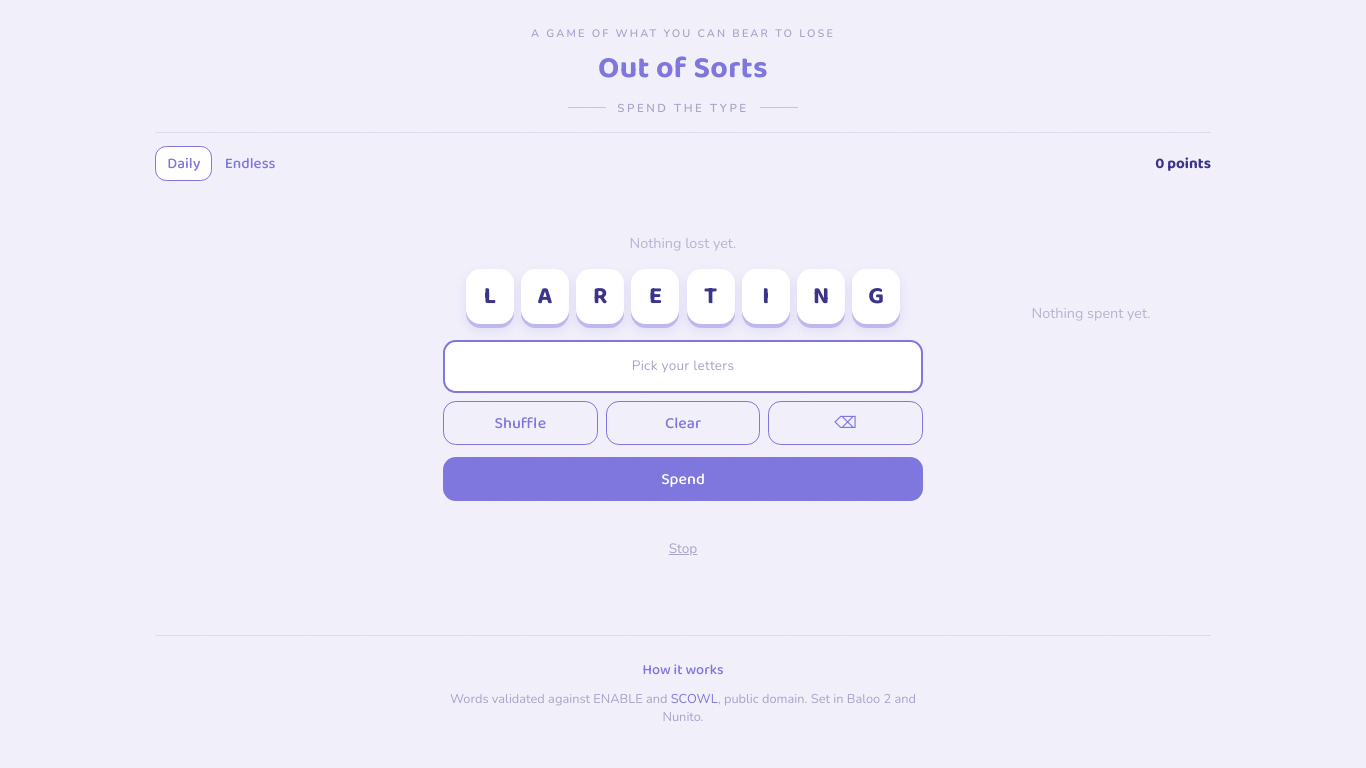
you open the game and type › mixes tapped tiles and typed letters, keeping the lights right
Expected: the element that starts with "Nothing lost yet." is shown, [443,233,1150,571]
Click the button with test id "pool-tile" showing "T". click: click(711, 297)
box: [687,269,735,324]
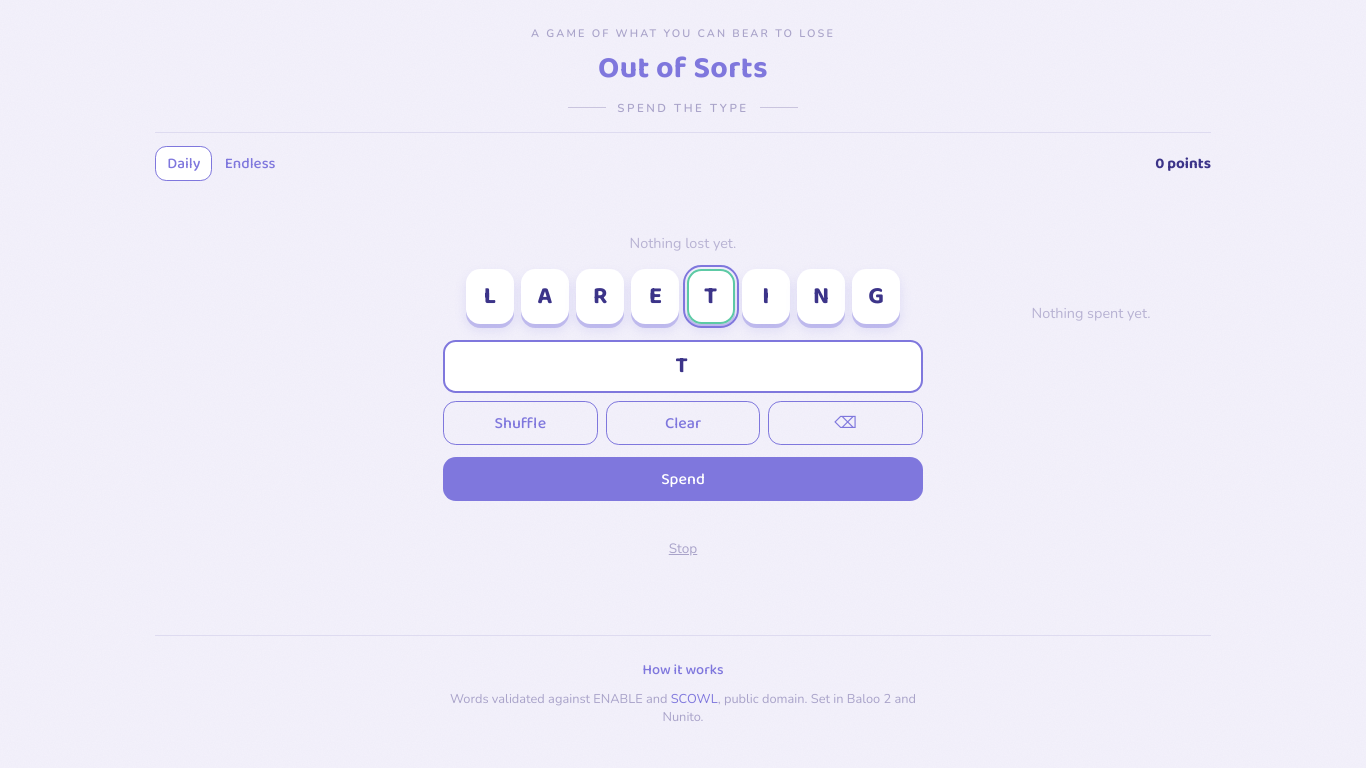
Type keys "ea"
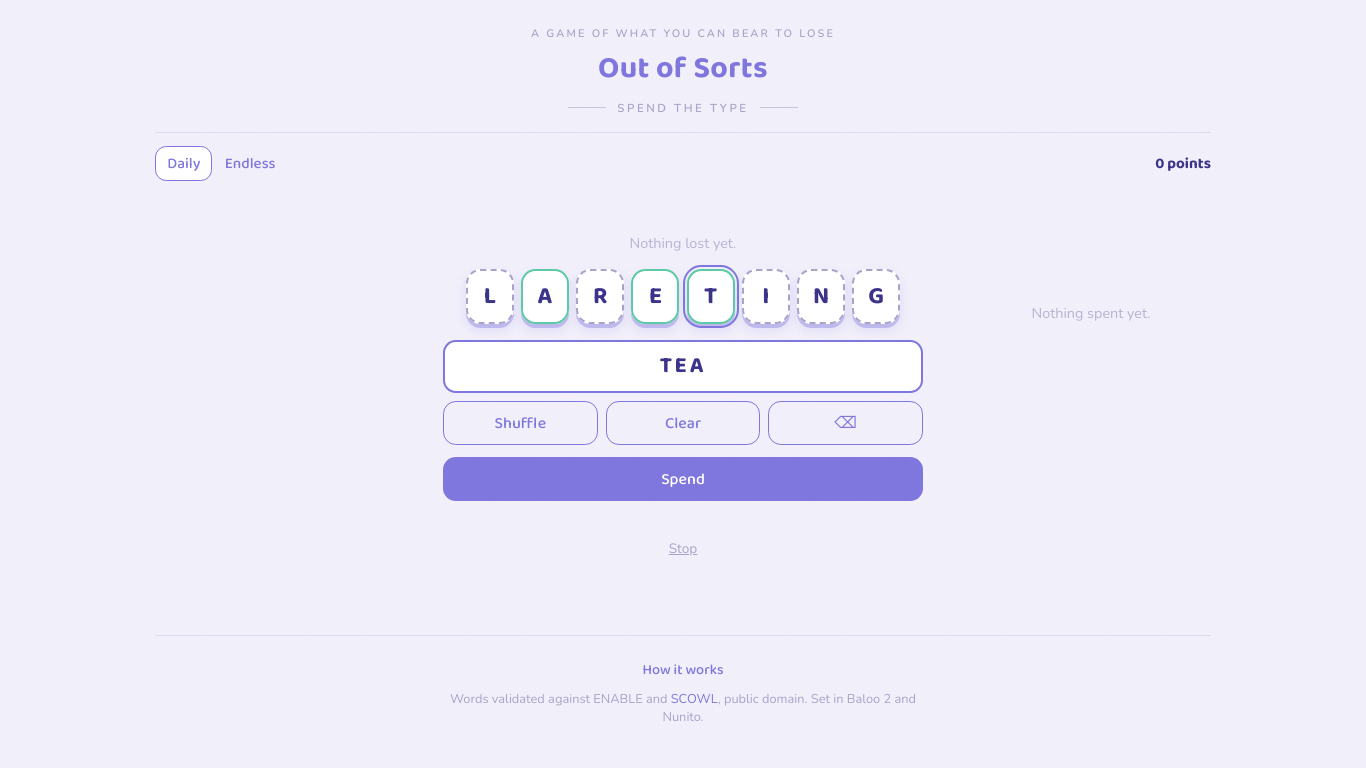
Expected: the message with test id "word-display" reads "TEA", [660,348,706,384]
